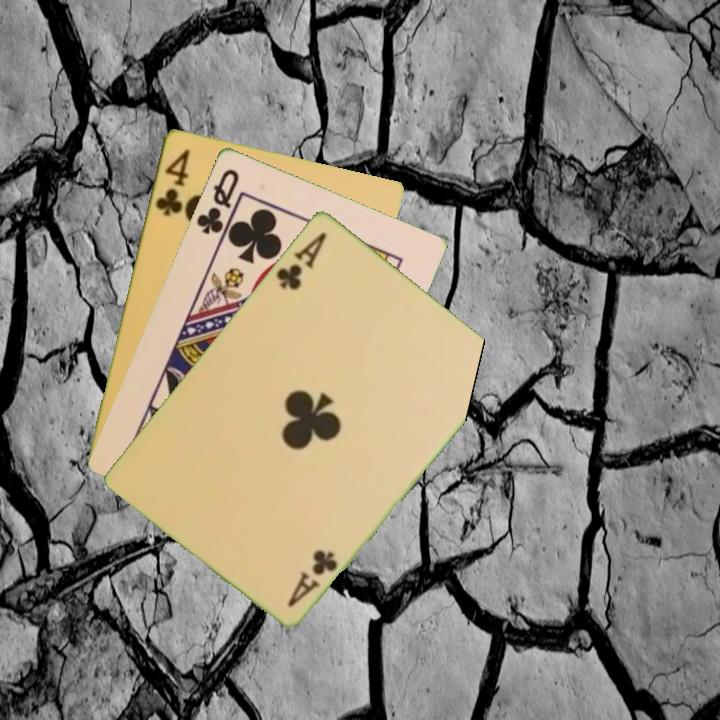4c: (151, 145, 193, 219)
Ac: (272, 227, 330, 293), (283, 545, 341, 610)
Qc: (192, 164, 243, 244)
